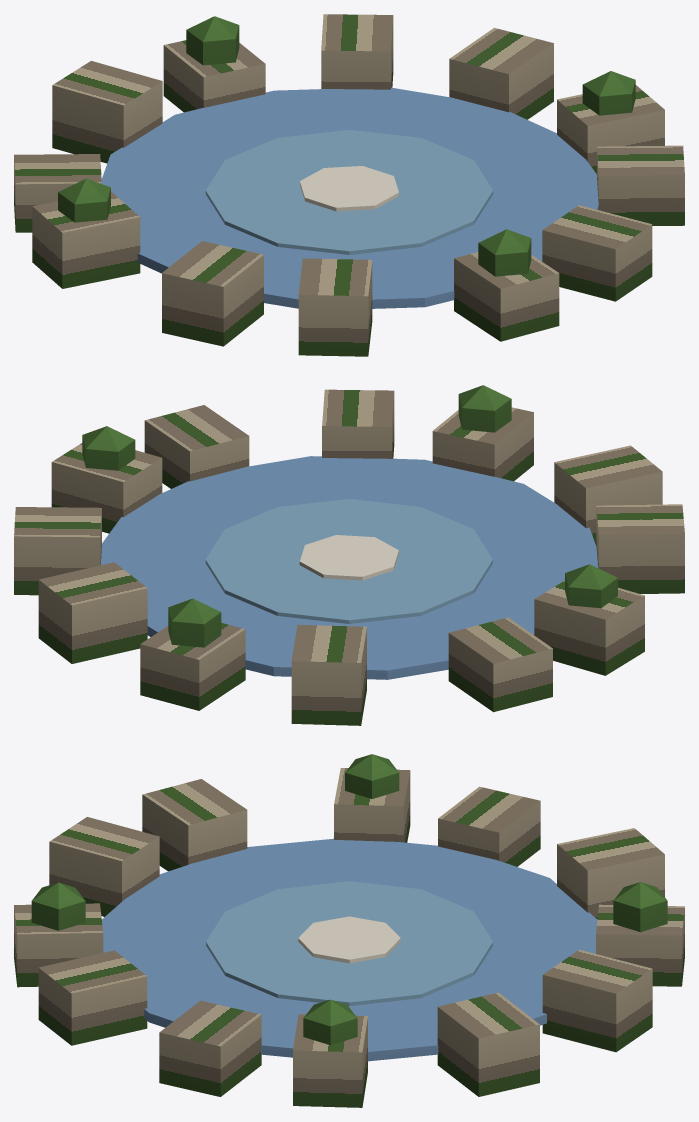
The model's file is spring_basin.glb.
3 renders of one model, top to bottom at view 1: azimuth 30°, elevation 25°; view 2: azimuth 150°, elevation 25°; view 3: azimuth 270°, elevation 25°, orthographic.
Visible parts, largest first — view 1: spring_basin; view 2: spring_basin; view 3: spring_basin.
Part boxes in pixels (bbox=[...]): spring_basin: bbox=[14, 14, 684, 356]; spring_basin: bbox=[14, 385, 684, 725]; spring_basin: bbox=[14, 754, 684, 1107].
Bounding box in the file's own units: 3.28 × 0.48 × 3.27.
3 materials, 1 textured.
